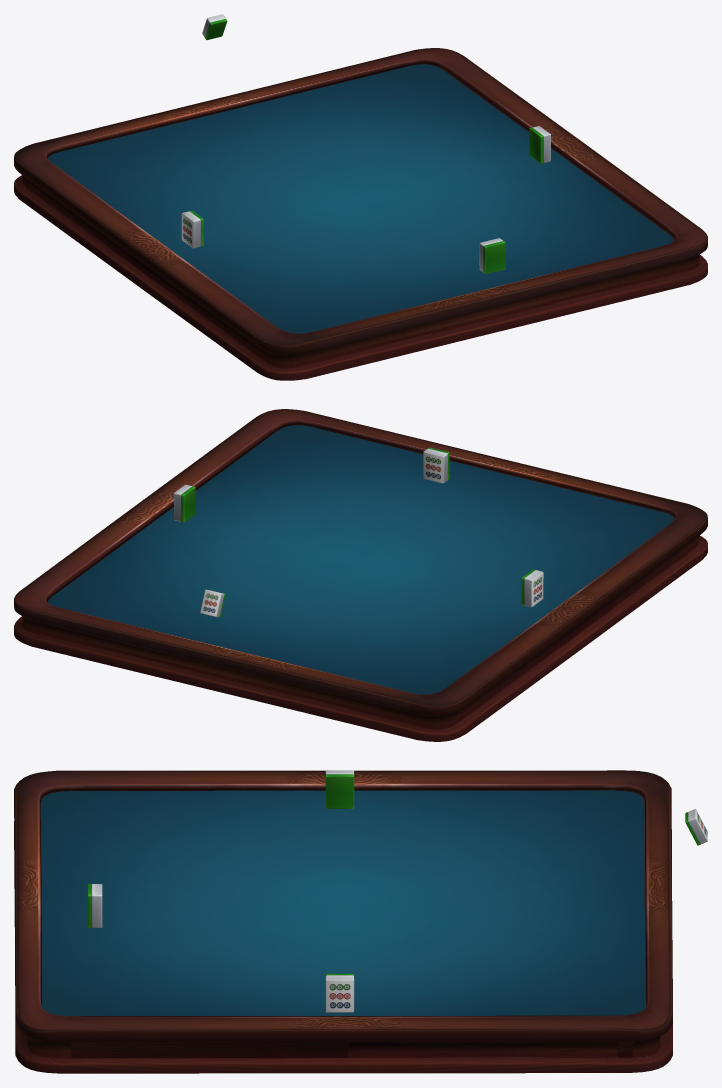
The model's file is majiangjiang.glb.
The picture shows the model from 3 angles, top to bottom: view 1: azimuth 30°, elevation 25°; view 2: azimuth 150°, elevation 25°; view 3: azimuth 270°, elevation 25°; orthographic projection. The views are drawn at different scales.
Visible parts, largest first — view 1: desk, card.002, card.001, card.003; view 2: desk, card.002, card.001, card.003, card.008; view 3: desk, card.003, card.001, card.002, card.008.
Part boxes in pixels (bbox=[...]): desk: bbox=[14, 48, 707, 380]; card.002: bbox=[479, 238, 505, 273]; card.001: bbox=[181, 210, 203, 248]; card.003: bbox=[529, 126, 550, 163]; desk: bbox=[14, 409, 707, 741]; card.002: bbox=[423, 447, 449, 483]; card.001: bbox=[521, 569, 543, 607]; card.003: bbox=[174, 484, 195, 522]; card.008: bbox=[200, 589, 225, 617]; desk: bbox=[14, 770, 672, 1073]; card.003: bbox=[325, 973, 354, 1012]; card.001: bbox=[325, 770, 354, 808]; card.002: bbox=[88, 884, 102, 927]; card.008: bbox=[685, 809, 707, 845].
Bounding box in the file's own units: 16.08 × 3.73 × 18.03.
Materials: 5 (5 with a texture image).
